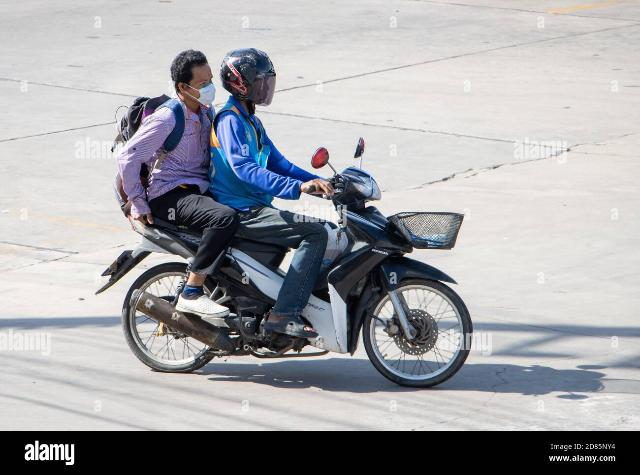helm: (223, 49, 278, 107)
motor: (113, 136, 475, 393)
non-helm: (171, 49, 217, 105)
